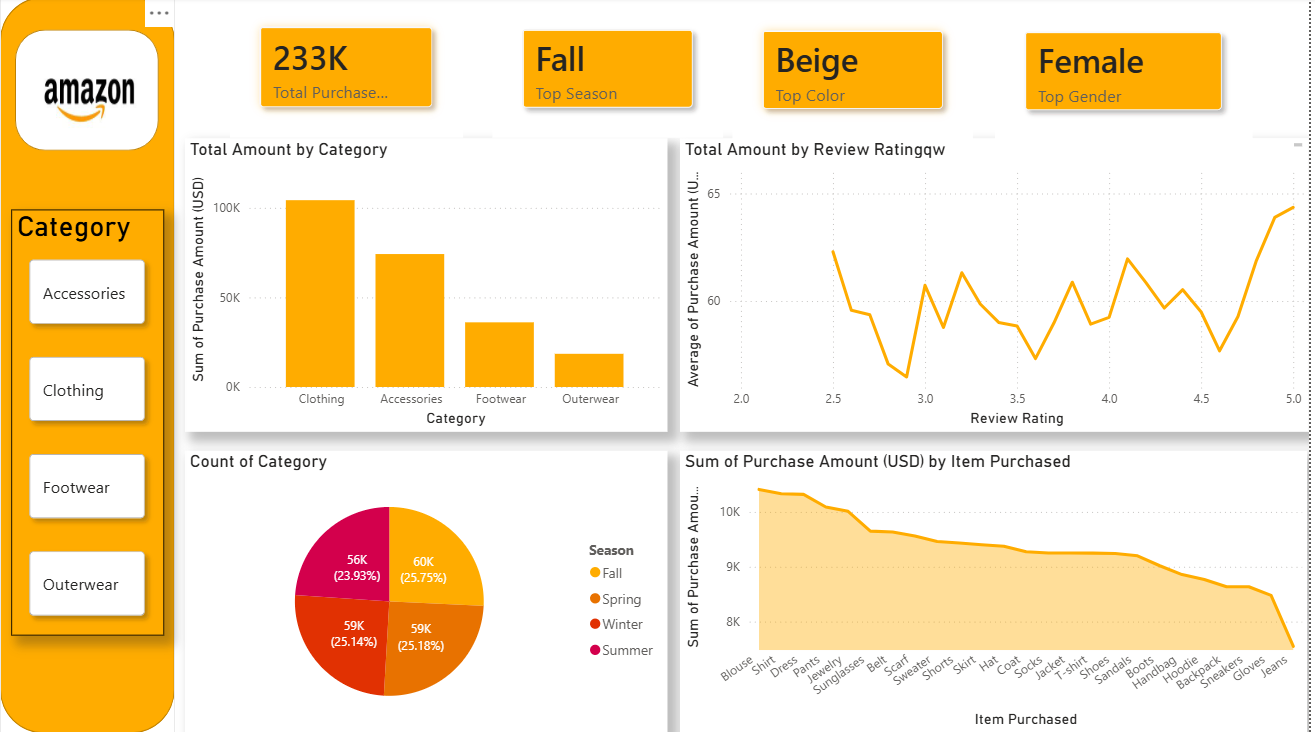

This screenshot's page, from the dashboard's own definition file:
{"tool":"powerbi","page":{"name":"Detalis","canvas":[1280,720],"ordinal":0},"visuals":[{"type":"columnChart","title":" Total Amount by Category","fields":{"Category":["shopping_trends.Category"],"Y":["Sum(shopping_trends.Purchase Amount (USD))"]},"box":[181,138,472.2,287.3],"z":0},{"type":"lineChart","title":" Total Amount by Review Ratingqw","fields":{"Category":["shopping_trends.Review Rating"],"Y":["Avg(shopping_trends.Purchase Amount (USD))"]},"box":[665.2,138.2,615.1,287.4],"z":1000},{"type":"pieChart","title":" Count of Category ","fields":{"Category":["shopping_trends.Season"],"Y":["Sum(shopping_trends.Purchase Amount (USD))"]},"box":[181,444.3,472.2,275.9],"z":2000},{"type":"stackedAreaChart","fields":{"Category":["shopping_trends.Item Purchased"],"Y":["Sum(shopping_trends.Purchase Amount (USD))"]},"box":[665.8,444.3,613.9,275.9],"z":3000},{"type":"shape","box":[0,0,170.9,720.3],"z":4000},{"type":"textbox","box":[1130.4,138,149.4,12.7],"z":5000},{"type":"advancedSlicerVisual","fields":{"Values":["shopping_trends.Category"]},"box":[11.4,207.6,149.4,416.5],"z":6000},{"type":"cardVisual","fields":{"Data":["Sum(shopping_trends.Purchase Amount (USD))"]},"box":[225.3,0,227.8,138],"z":7000},{"type":"cardVisual","fields":{"Data":["Min(shopping_trends.Gender)"]},"box":[973.4,5.1,251.9,135.4],"z":8000},{"type":"cardVisual","fields":{"Data":["Min(shopping_trends.Color)"]},"box":[716.5,3.8,235.4,135.4],"z":9000},{"type":"cardVisual","fields":{"Data":["Min(shopping_trends.Season)"]},"box":[482.3,2.5,225.3,135.4],"z":10000},{"type":"shape","box":[14.7,31.8,140.6,118.6],"z":11000},{"type":"image","box":[30.6,40.4,113.7,102.7],"z":12000}]}

Visuals, with their boxes in screenshot pixels (x1, y1, x2, y2), scaled from the page's 1280x720 canvas onto the 1315x732 screenshot:
" Total Amount by Category" columnChart: <box>186,140,671,432</box>
" Total Amount by Review Ratingqw" lineChart: <box>683,141,1314,433</box>
" Count of Category " pieChart: <box>186,452,671,731</box>
stackedAreaChart - shopping_trends.Item Purchased x Sum(shopping_trends.Purchase Amount (USD)): <box>684,452,1314,731</box>
shape: <box>0,0,176,731</box>
textbox: <box>1161,140,1314,153</box>
advancedSlicerVisual - shopping_trends.Category: <box>12,211,165,635</box>
cardVisual - Sum(shopping_trends.Purchase Amount (USD)): <box>231,0,465,140</box>
cardVisual - Min(shopping_trends.Gender): <box>1000,5,1259,143</box>
cardVisual - Min(shopping_trends.Color): <box>736,4,978,142</box>
cardVisual - Min(shopping_trends.Season): <box>495,3,727,140</box>
shape: <box>15,32,160,153</box>
image: <box>31,41,148,145</box>
